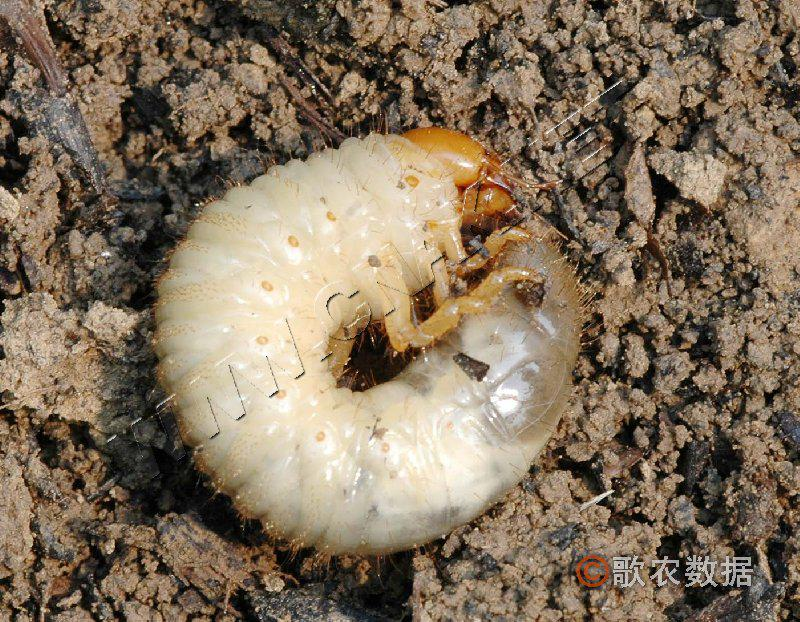grub: (149, 126, 583, 562)
